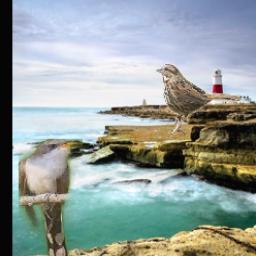Cuckoo: (19, 139, 83, 256)
Sparrow: (156, 63, 241, 136)
